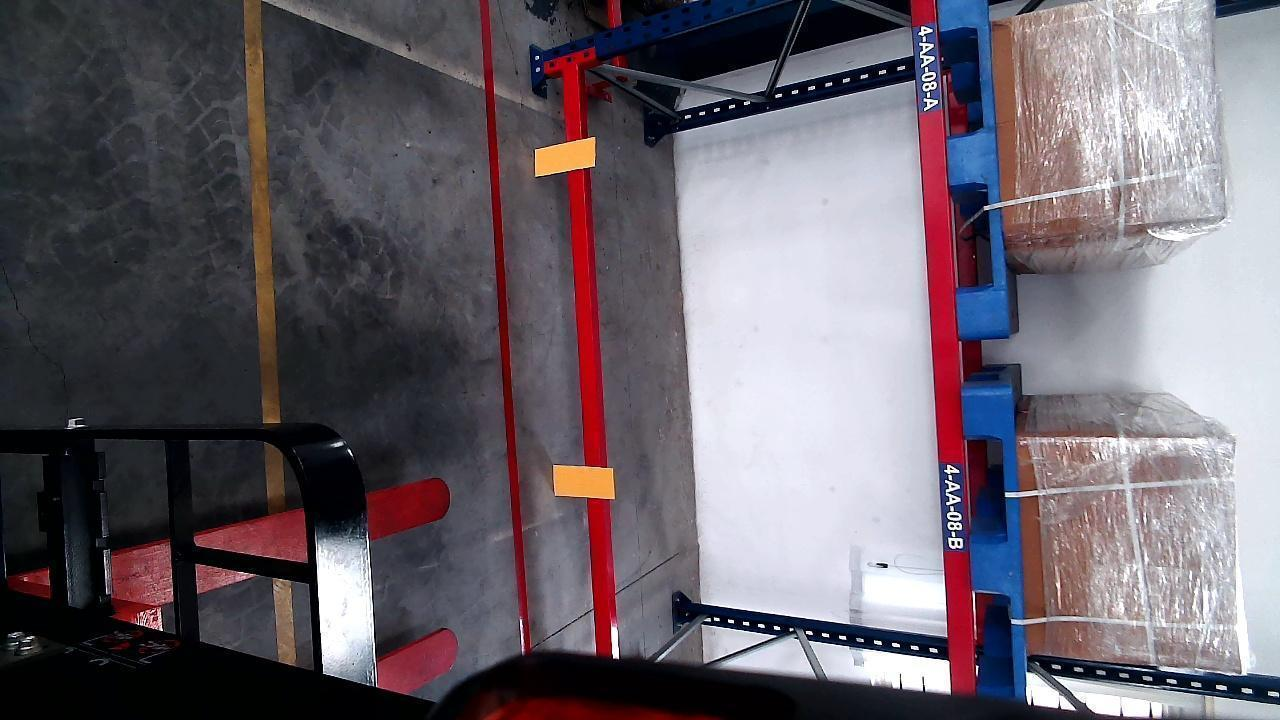red_line: (472, 0, 536, 660)
yellow_line: (246, 0, 279, 425)
